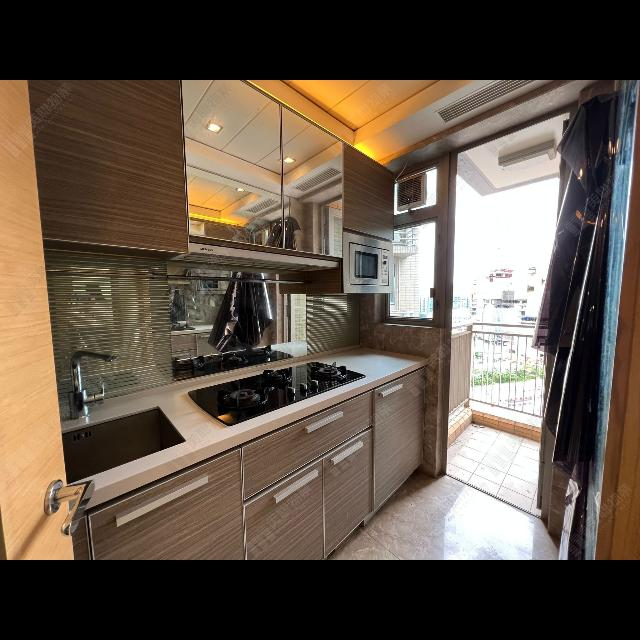Microwave: (340, 231, 394, 293)
